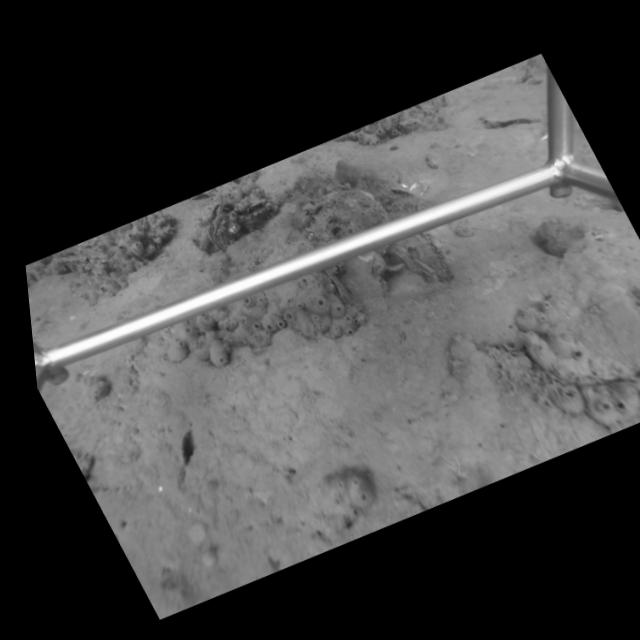Oyster-Closed: (319, 270, 350, 307)
Oyster-Open: (206, 203, 248, 252)
